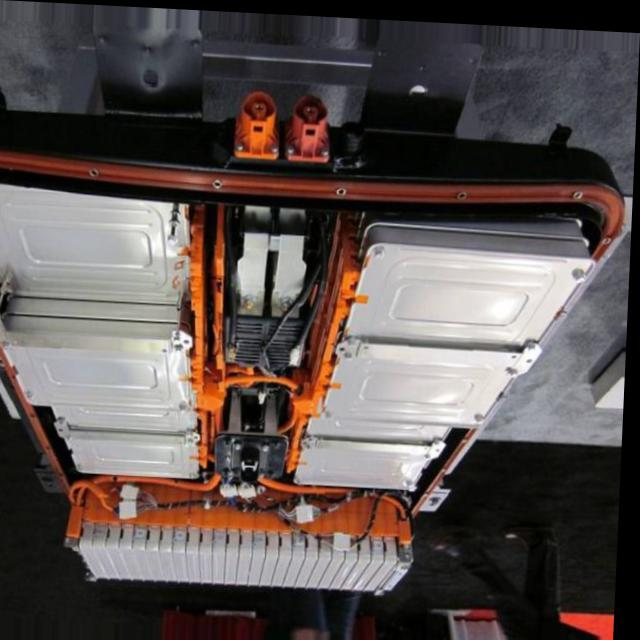Battery Module: (320, 249, 564, 483), (23, 336, 184, 479), (1, 190, 163, 291)
Bolt: (57, 406, 79, 444), (163, 204, 182, 248), (342, 328, 362, 363), (306, 424, 325, 456), (175, 390, 194, 413), (570, 261, 592, 279), (476, 403, 493, 425), (326, 399, 340, 425), (173, 338, 190, 359), (2, 336, 22, 353), (528, 331, 544, 351), (504, 358, 523, 374), (407, 467, 420, 489), (298, 469, 313, 488), (374, 240, 390, 257), (76, 457, 88, 476), (186, 431, 200, 447), (28, 390, 42, 406), (189, 468, 204, 482), (426, 445, 438, 458)
Bus-bar: (290, 256, 362, 469), (192, 240, 229, 460)
Cable: (81, 474, 414, 532)
Nut: (278, 288, 298, 313), (241, 288, 261, 312)
